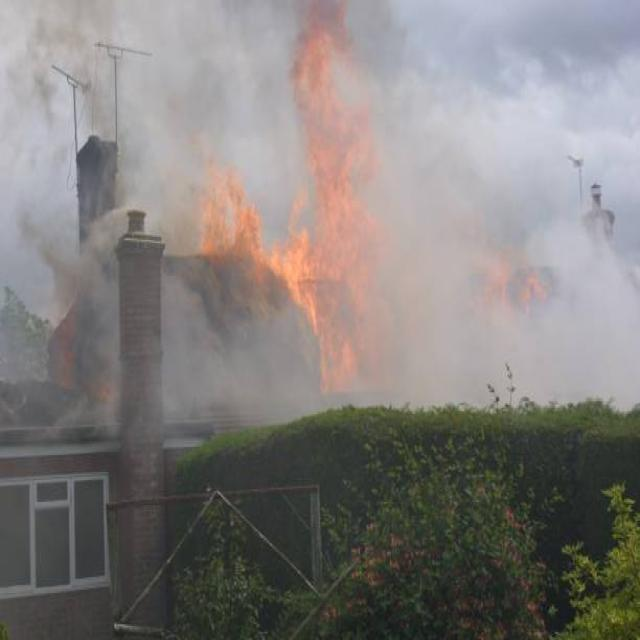Fire: (304, 30, 373, 382), (205, 187, 313, 294)
Smoke: (2, 0, 162, 385), (164, 268, 318, 421)
